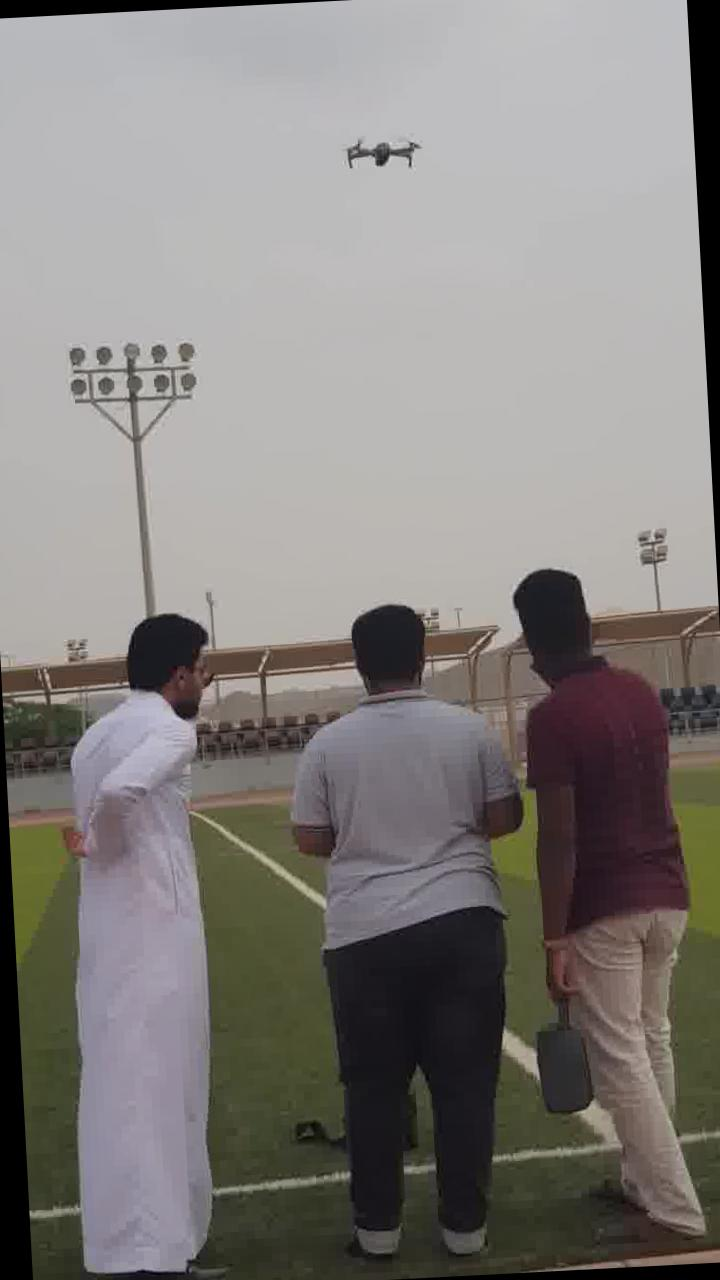drone: (330, 130, 430, 178)
